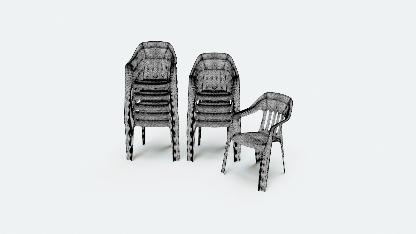chair: (219, 88, 299, 195), (119, 38, 183, 167), (184, 51, 247, 166)
